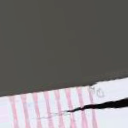crackTip: (33, 96, 128, 122)
